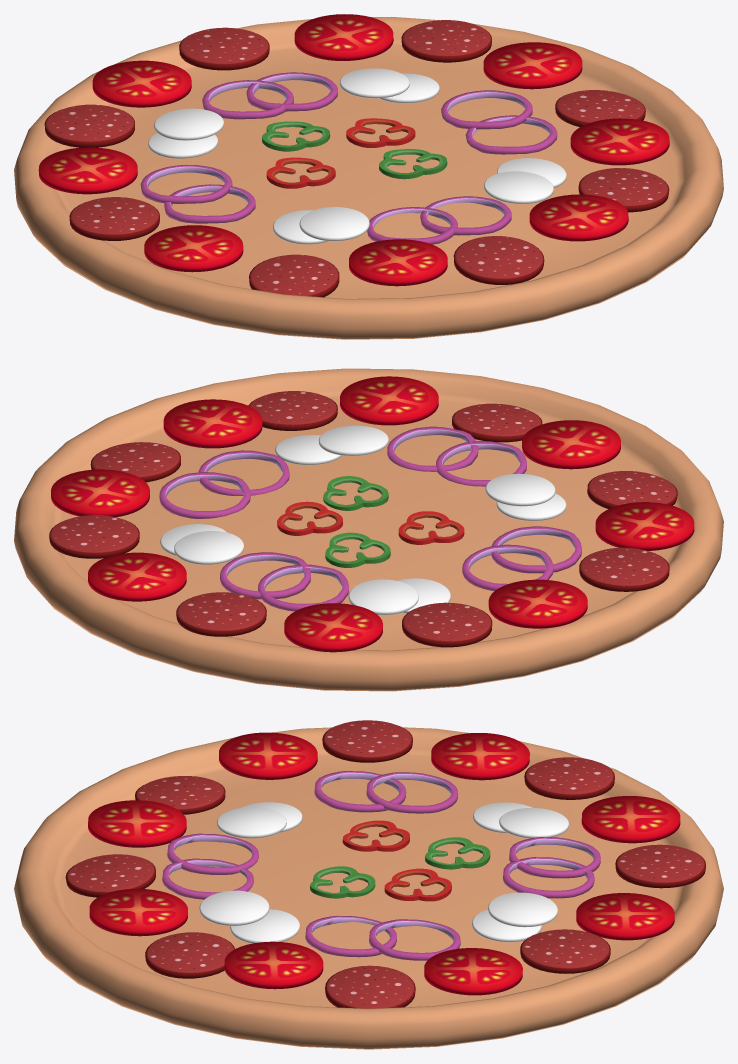
The model's file is pizza.glb.
3 renders of one model, top to bottom at view 1: azimuth 30°, elevation 25°; view 2: azimuth 150°, elevation 25°; view 3: azimuth 270°, elevation 25°, orthographic.
Parts seen in each view (by area): view 1: Dough.001, Dough.003, Dough.014, Dough.015, Dough.002, Dough.013, Dough.017, Dough.018, Dough.012, Dough.016, Dough.007, Dough.006 (+26 smaller); view 2: Dough.001, Dough.003, Dough.014, Dough.018, Dough.015, Dough.012, Dough.002, Dough.016, Dough.017, Dough.013, Dough.004, Dough.008 (+26 smaller); view 3: Dough.001, Dough.003, Dough.013, Dough.014, Dough.017, Dough.002, Dough.018, Dough.015, Dough.012, Dough.016, Dough.005, Dough.009 (+26 smaller).
Boxes of the visible parts, box(x1,y1,x2,y2) form: Dough.001: box(36, 42, 707, 339); Dough.003: box(14, 17, 723, 338); Dough.014: box(570, 118, 669, 165); Dough.015: box(529, 194, 628, 241); Dough.002: box(92, 60, 191, 107); Dough.013: box(483, 42, 582, 89); Dough.017: box(144, 225, 243, 272); Dough.018: box(38, 147, 137, 194); Dough.012: box(294, 14, 393, 60); Dough.016: box(349, 239, 447, 286); Dough.007: box(453, 236, 544, 284); Dough.006: box(69, 197, 159, 240); Dough.001: box(30, 394, 702, 691); Dough.003: box(14, 368, 723, 690); Dough.014: box(163, 399, 262, 448); Dough.018: box(488, 579, 587, 628); Dough.015: box(340, 376, 438, 425); Dough.012: box(88, 552, 186, 601); Dough.002: box(284, 603, 382, 652); Dough.016: box(522, 420, 620, 469); Dough.017: box(595, 502, 694, 550); Dough.013: box(51, 469, 149, 517); Dough.004: box(176, 592, 266, 636); Dough.008: box(402, 602, 492, 647); Dough.001: box(43, 752, 694, 1049); Dough.003: box(14, 727, 723, 1048); Dough.013: box(424, 948, 522, 995); Dough.014: box(224, 941, 323, 989); Dough.017: box(219, 732, 317, 779); Dough.002: box(581, 796, 680, 843); Dough.018: box(431, 733, 529, 780); Dough.015: box(89, 888, 187, 936); Dough.012: box(576, 893, 674, 940); Dough.016: box(88, 800, 186, 847); Dough.005: box(325, 965, 415, 1008); Dough.009: box(520, 929, 610, 973).
Bounding box in the file's own units: 2.53 × 0.2017 × 2.53.
50 materials, 16 textured.
